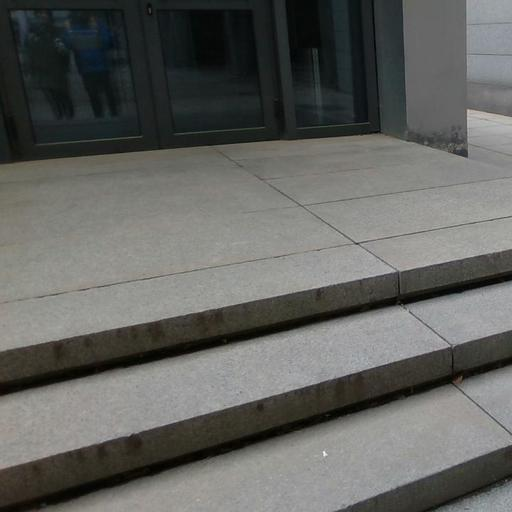stairs: (0, 246, 511, 511)
